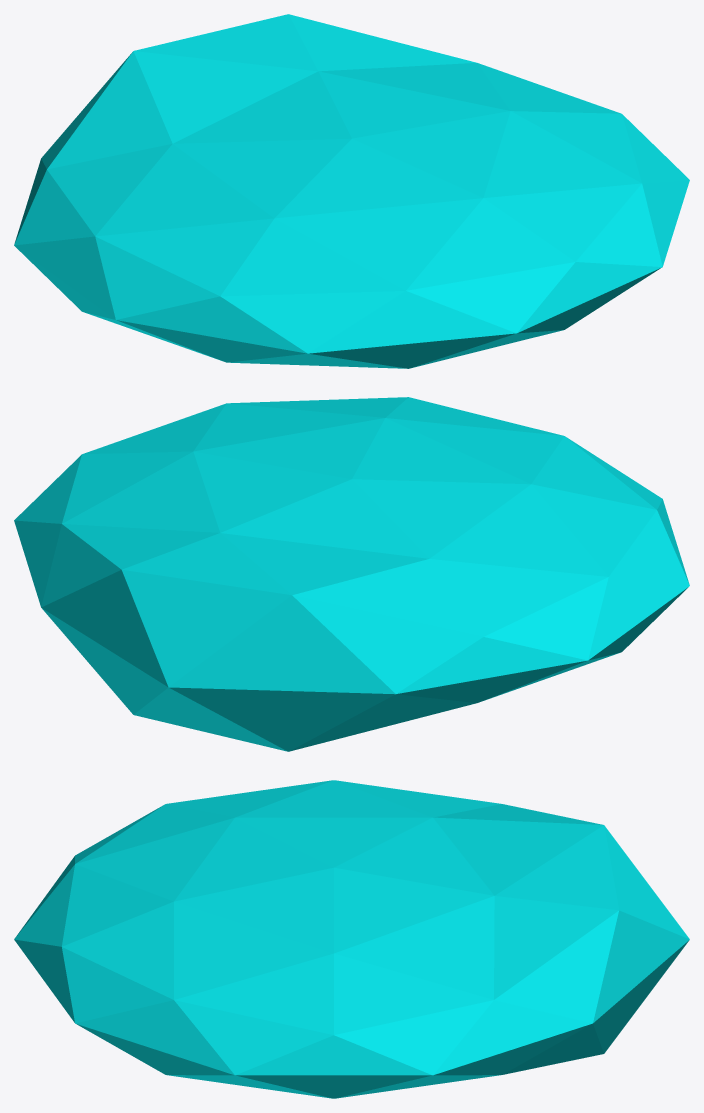
The model's file is Enemy Ship Light Fighter.fbx.
3 views of the same model, one above another, from view 1: azimuth 30°, elevation 25°; view 2: azimuth 150°, elevation 25°; view 3: azimuth 270°, elevation 25° (orthographic). The views are drawn at different scales.
Visible parts, largest first — view 1: Shield; view 2: Shield; view 3: Shield.
Boxes of the visible parts, left/top/right/bottom form: Shield: left=14, top=14, right=689, bottom=368; Shield: left=14, top=397, right=689, bottom=751; Shield: left=14, top=780, right=689, bottom=1098.
Bounding box in the file's own units: 812 × 853 × 214.
